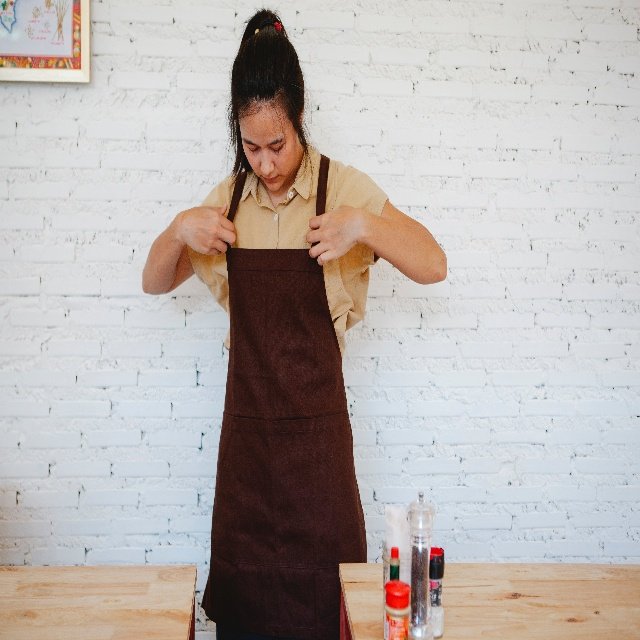Sin_guantes: (306, 199, 362, 268), (177, 204, 238, 257)
